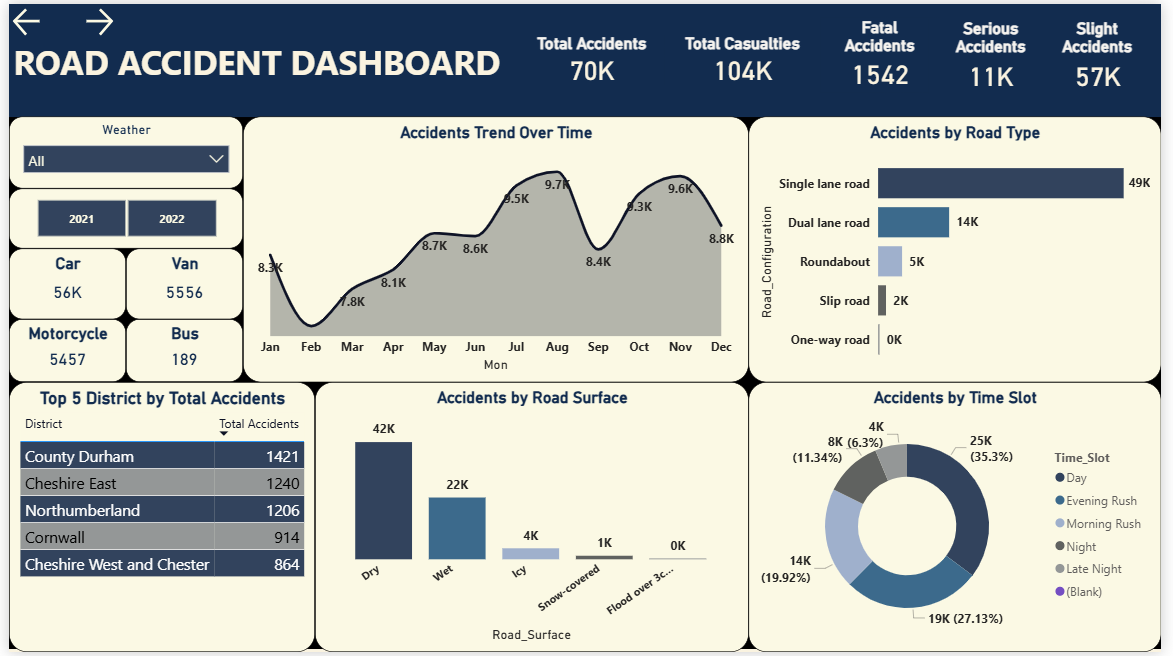

What the dashboard file says about the page in this screenshot:
{"tool":"powerbi","page":{"name":"Dashboard","canvas":[1280,720],"ordinal":1},"visuals":[{"type":"card","title":"Total Accidents","fields":{"Values":["road_accident.Total Accidents"]},"box":[541.7,33.3,211.7,56.7],"z":0},{"type":"card","title":"Total Casualties","fields":{"Values":["road_accident.Total Casualties"]},"box":[728.3,33.3,173.3,56.7],"z":1000},{"type":"card","title":"Fatal Accidents","fields":{"Values":["road_accident.Fatal Accidents"]},"box":[901.7,15,131.7,83.3],"z":2000},{"type":"card","title":"Serious Accidents","fields":{"Values":["road_accident.Serious Accidents"]},"box":[1021.7,16.7,138.3,83.3],"z":3000},{"type":"card","title":"Slight Accidents","fields":{"Values":["road_accident.Slight Accidents"]},"box":[901.7,126.7,238.3,83.3],"z":4000},{"type":"slicer","fields":{"Values":["Calendar.Date.Variation.Date Hierarchy.Year"]},"box":[574.5,224.9,109.6,94.5],"z":5000},{"type":"stackedAreaChart","title":"Accidents Trend Over Time","fields":{"Y":["Sum(road_accident.Casualty_Count)"],"Category":["Calendar.Month"]},"box":[260,125,561.7,295],"z":6000},{"type":"textbox","box":[0,33.3,560,71.7],"z":7000},{"type":"barChart","title":"Accidents by Road Type","fields":{"Category":["road_accident.Road_Configuration"],"Y":["road_accident.Total Accidents"]},"box":[821.7,125,458.3,295],"z":8000},{"type":"columnChart","title":"Accidents by Road Surface","fields":{"Category":["road_accident.Road_Surface"],"Y":["road_accident.Total Accidents"]},"box":[340,420,481.7,300],"z":9000},{"type":"donutChart","title":" Accidents by Time Slot","fields":{"Category":["road_accident.Time_Slot"],"Y":["road_accident.Total Accidents"]},"box":[821.7,420,458.3,300],"z":10000},{"type":"slicer","title":"Year","fields":{"Values":["Calendar.Year"]},"box":[0,205,260,66.7],"z":11000},{"type":"slicer","title":"Weather","fields":{"Values":["road_accident.Weather_Group"]},"box":[0,125,260,80],"z":12000},{"type":"tableEx","title":"Top 5 District by Total Accidents","fields":{"Values":["road_accident.District","road_accident.Total Accidents"]},"box":[0,420,340,300],"z":13000},{"type":"card","title":"Bus","fields":{"Values":["road_accident.Total Accidents"]},"box":[130,350,130,70],"z":14000},{"type":"card","title":"Motorcycle","fields":{"Values":["road_accident.Total Accidents"]},"box":[0,350,130,70],"z":15000},{"type":"card","title":"Car","fields":{"Values":["road_accident.Total Accidents"]},"box":[0,271.7,130,78.3],"z":16000},{"type":"card","title":"Van","fields":{"Values":["road_accident.Total Accidents"]},"box":[130,271.7,130,78.3],"z":17000},{"type":"card","title":"Slight Accidents","fields":{"Values":["road_accident.Slight Accidents"]},"box":[1140,16.7,138.3,83.3],"z":18000},{"type":"actionButton","box":[0,0,100,40],"z":19000},{"type":"actionButton","box":[80,0,100,40],"z":20000}]}

Visuals, with their boxes in screenshot pixels (x1, y1, x2, y2), scaled from the page's 1280x720 canvas onto the 1173x656 screenshot:
"Total Accidents" card: 496/30/690/82
"Total Casualties" card: 667/30/826/82
"Fatal Accidents" card: 826/14/947/90
"Serious Accidents" card: 936/15/1063/91
"Slight Accidents" card: 826/115/1045/191
slicer - Calendar.Date.Variation.Date Hierarchy.Year: 526/205/627/291
"Accidents Trend Over Time" stackedAreaChart: 238/114/753/383
textbox: 0/30/513/96
"Accidents by Road Type" barChart: 753/114/1172/383
"Accidents by Road Surface" columnChart: 312/383/753/655
" Accidents by Time Slot" donutChart: 753/383/1172/655
"Year" slicer: 0/187/238/248
"Weather" slicer: 0/114/238/187
"Top 5 District by Total Accidents" tableEx: 0/383/312/655
"Bus" card: 119/319/238/383
"Motorcycle" card: 0/319/119/383
"Car" card: 0/248/119/319
"Van" card: 119/248/238/319
"Slight Accidents" card: 1045/15/1171/91
actionButton: 0/0/92/36
actionButton: 73/0/165/36
